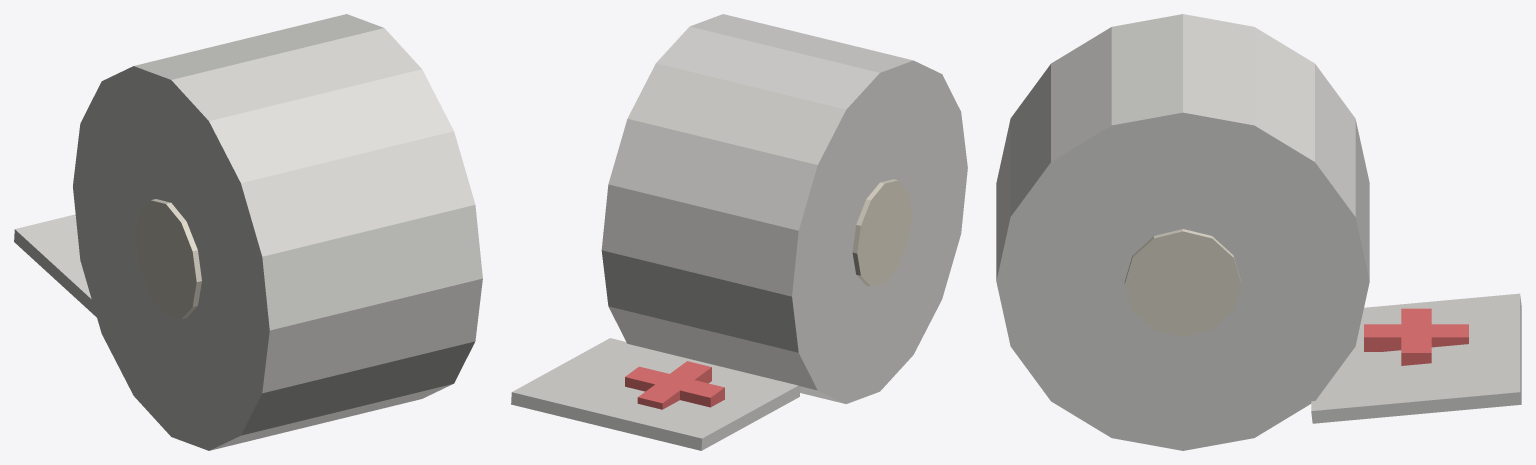
Rendered from bandage.glb.
The picture shows the model from 3 angles, left to right: view 1: azimuth 30°, elevation 25°; view 2: azimuth 150°, elevation 25°; view 3: azimuth 270°, elevation 25°; orthographic projection. The views are drawn at different scales.
Parts seen in each view (by area): view 1: bandage; view 2: bandage; view 3: bandage.
Boxes of the visible parts, x1=… form: bandage: x1=14, y1=14, x2=482, y2=450; bandage: x1=511, y1=14, x2=967, y2=450; bandage: x1=996, y1=14, x2=1521, y2=450.
Size of the model in its own units: 0.225 by 0.32 by 0.4501.
